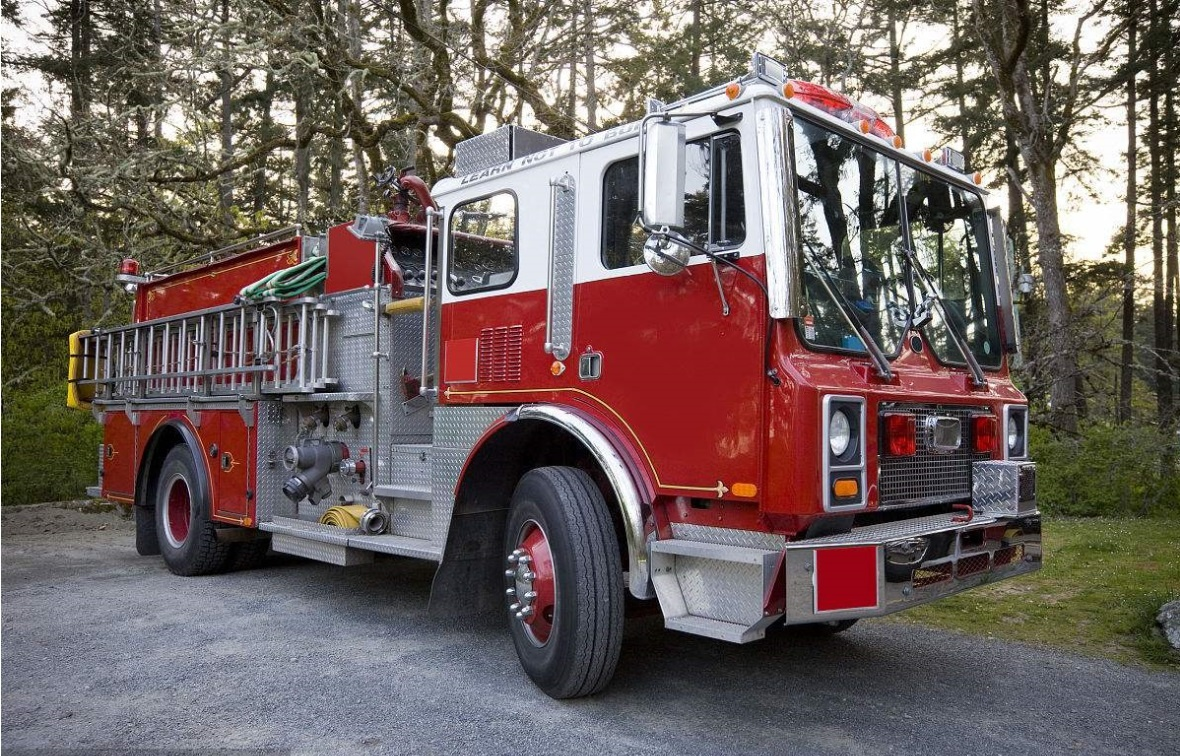fire engine: (65, 98, 1065, 692)
